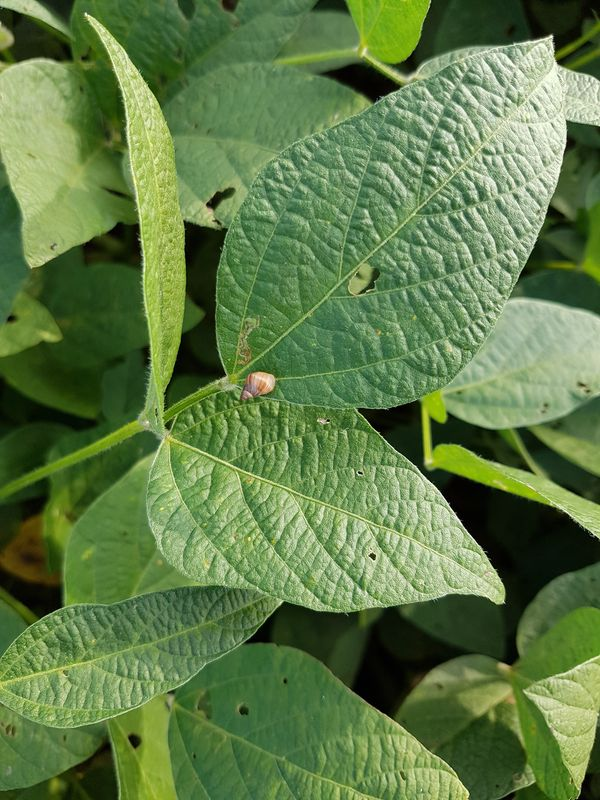Gastropoda: (229, 364, 286, 411)
